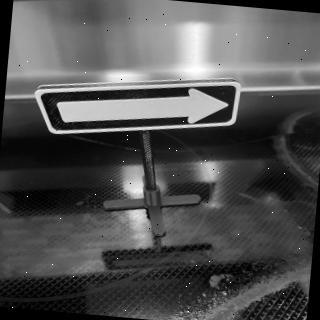sign_oneway_right: (31, 62, 244, 152)
